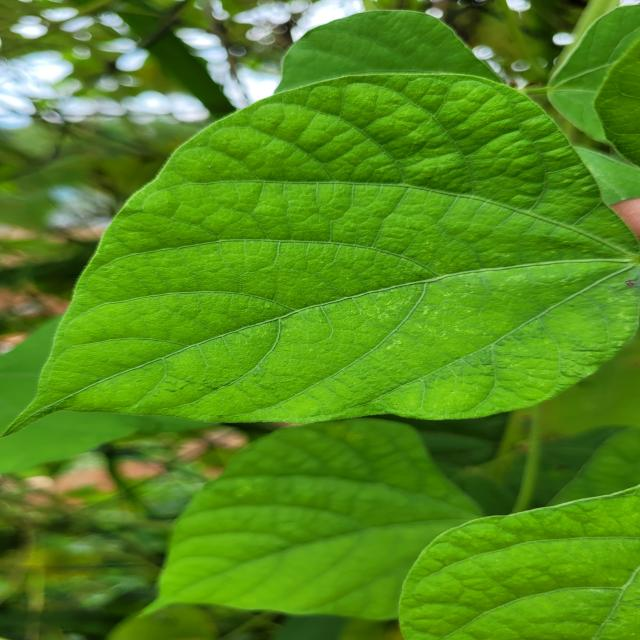Dolicos bean_healthy: (0, 62, 640, 433), (130, 420, 531, 618), (395, 476, 640, 640)
